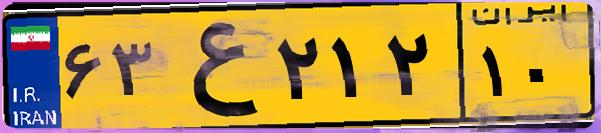0: (525, 38, 570, 115)
1: (330, 28, 385, 110), (475, 38, 525, 113)
2: (270, 28, 330, 110), (385, 28, 445, 110)
3: (110, 28, 158, 98)
6: (57, 26, 110, 100)
ع: (158, 12, 270, 120)
